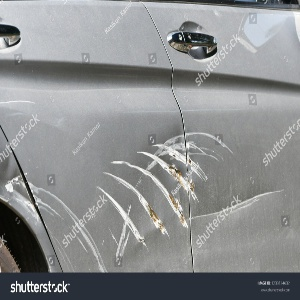door_scratch: (115, 106, 198, 266)
